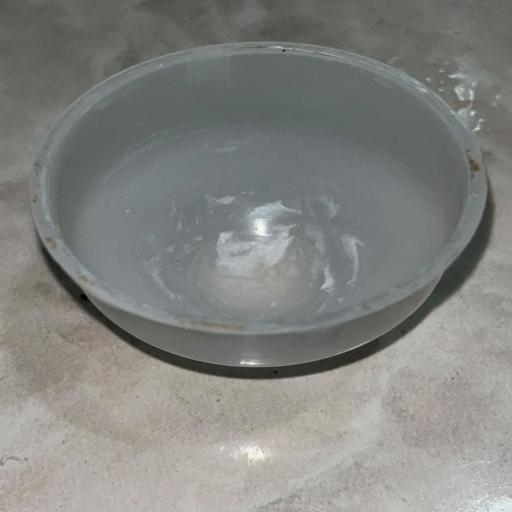PET: (9, 38, 512, 393)
